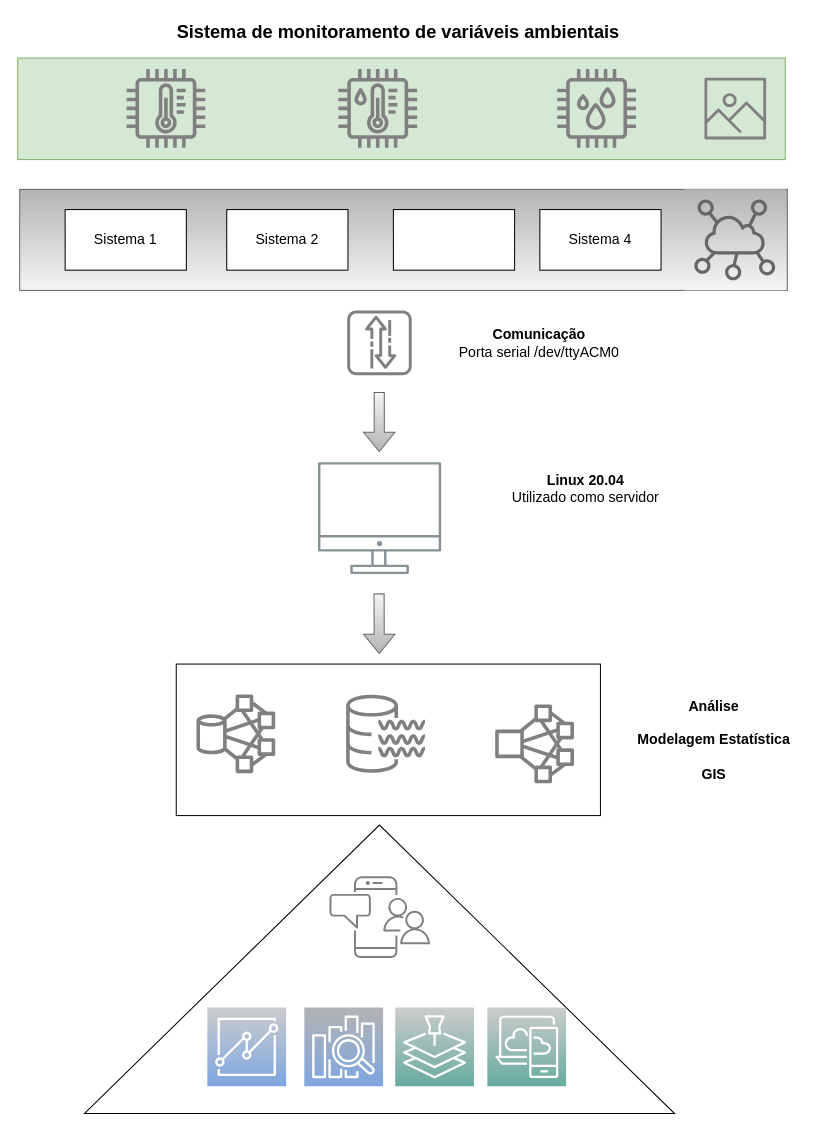
This 830x1131 diagram has some shape labels left out. The shapes that lost their labels are listed below. From the top down, each one's box as (x1, y1, x2, y2) in pixels, then its label:
(392, 209, 515, 270): Sistema 3
(329, 876, 430, 957): notification
